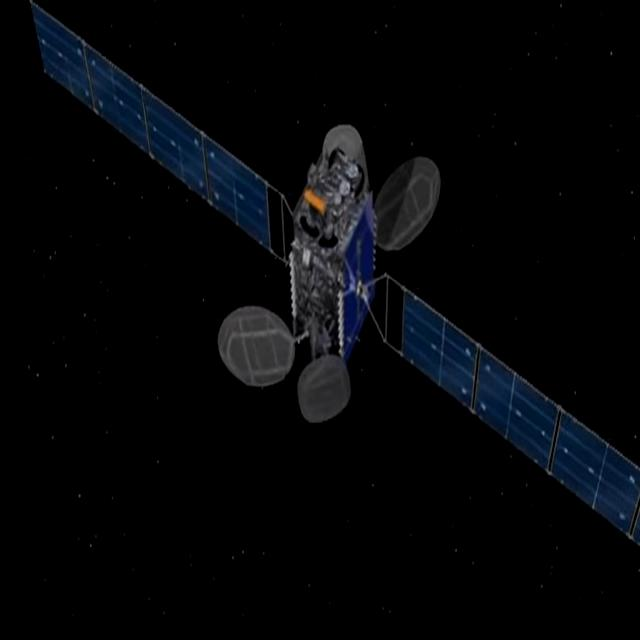medium_debris: (37, 1, 640, 567)
